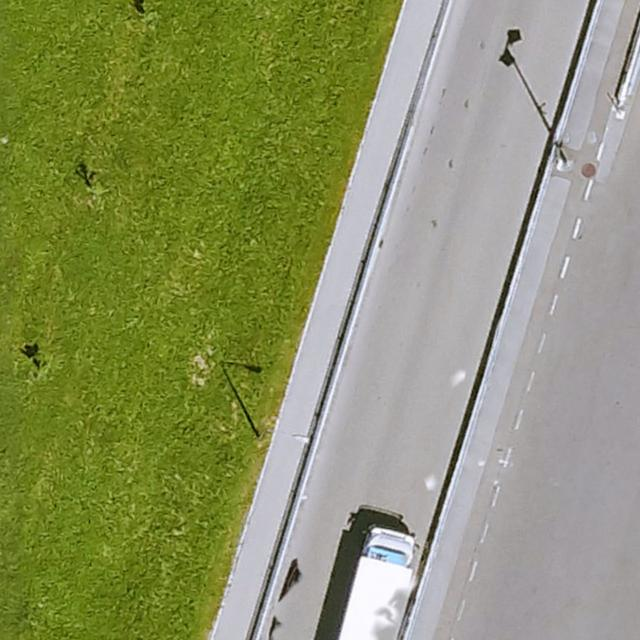tree: (13, 354, 36, 379)
